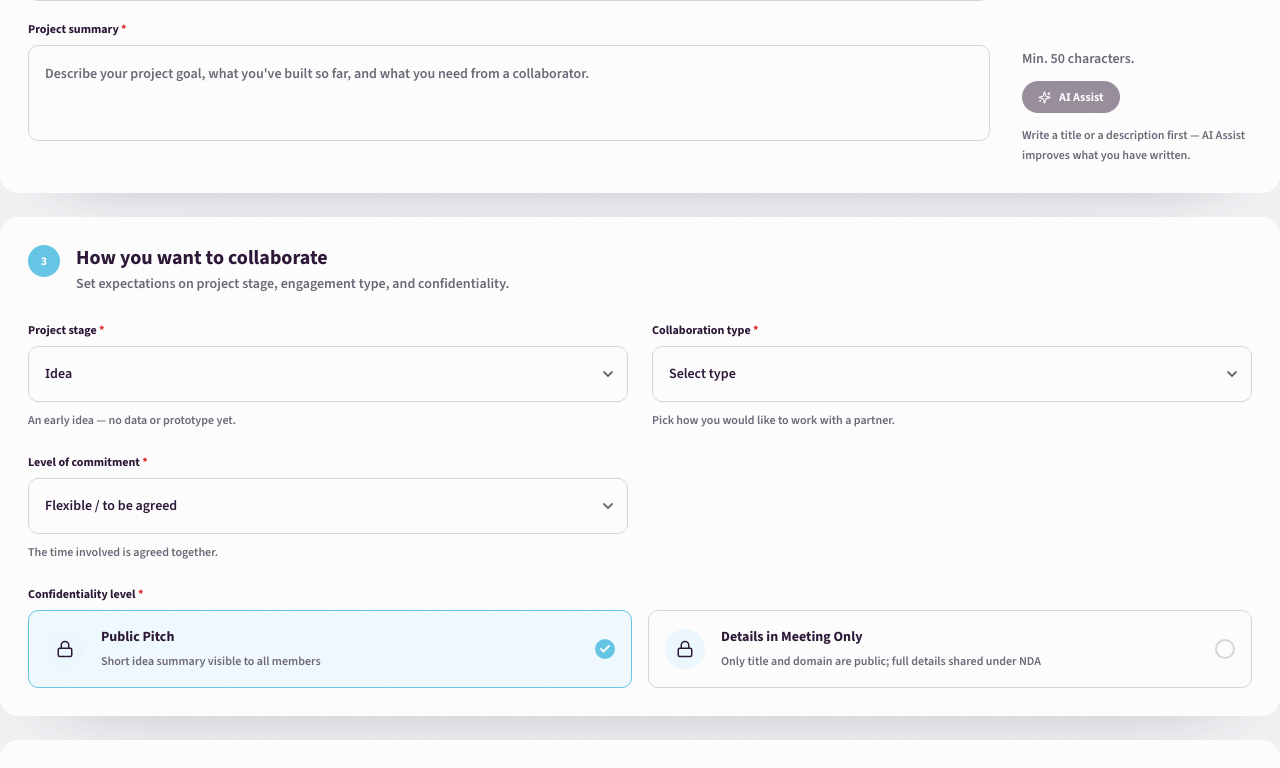
Test: PostFormFields › describes the project stage that is selected
The image size is (1280, 768).
(page scrolled)
Expected: the text "An early idea — no data or prototype yet." is shown, [28, 412, 236, 428]
Select "Pilot" in the dropdown showing "Idea" at coordinates (328, 374), box [28, 346, 628, 402]
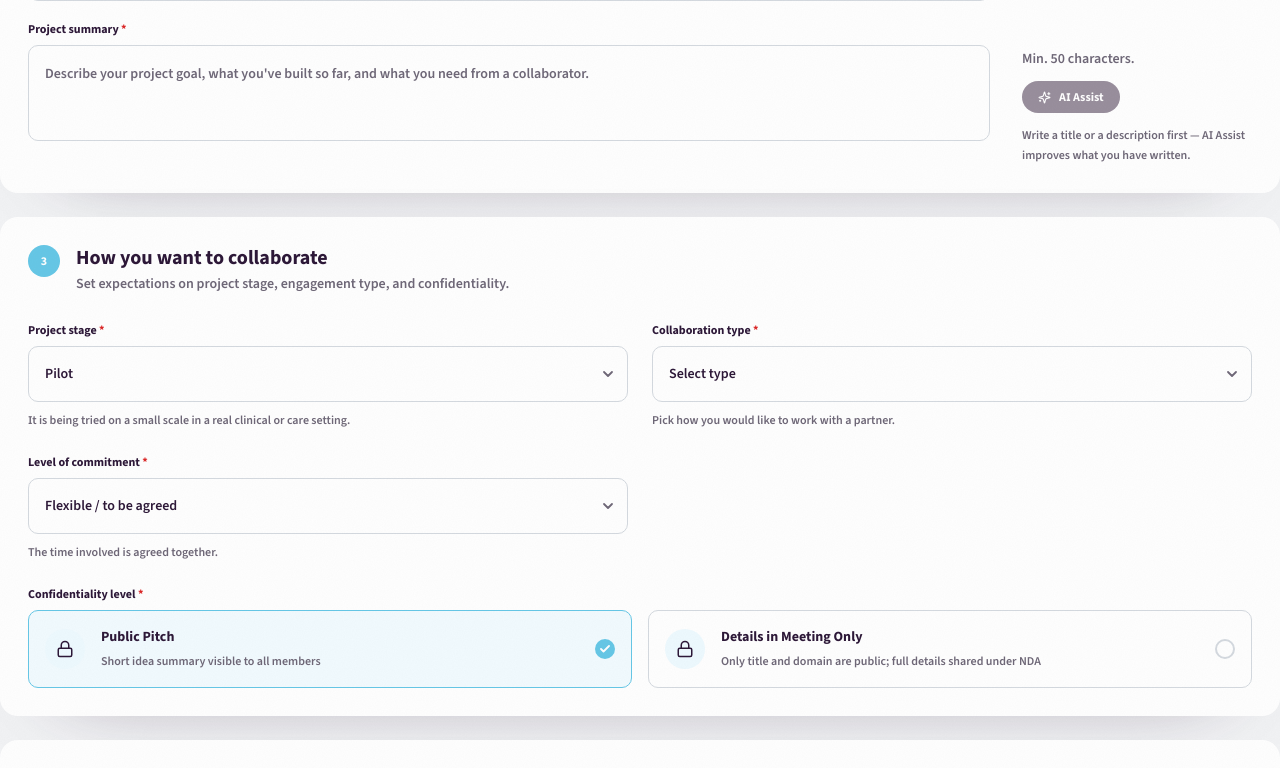
Now the text "It is being tried on a small scale in a real clinical or care setting." is shown, box [28, 412, 350, 428]
